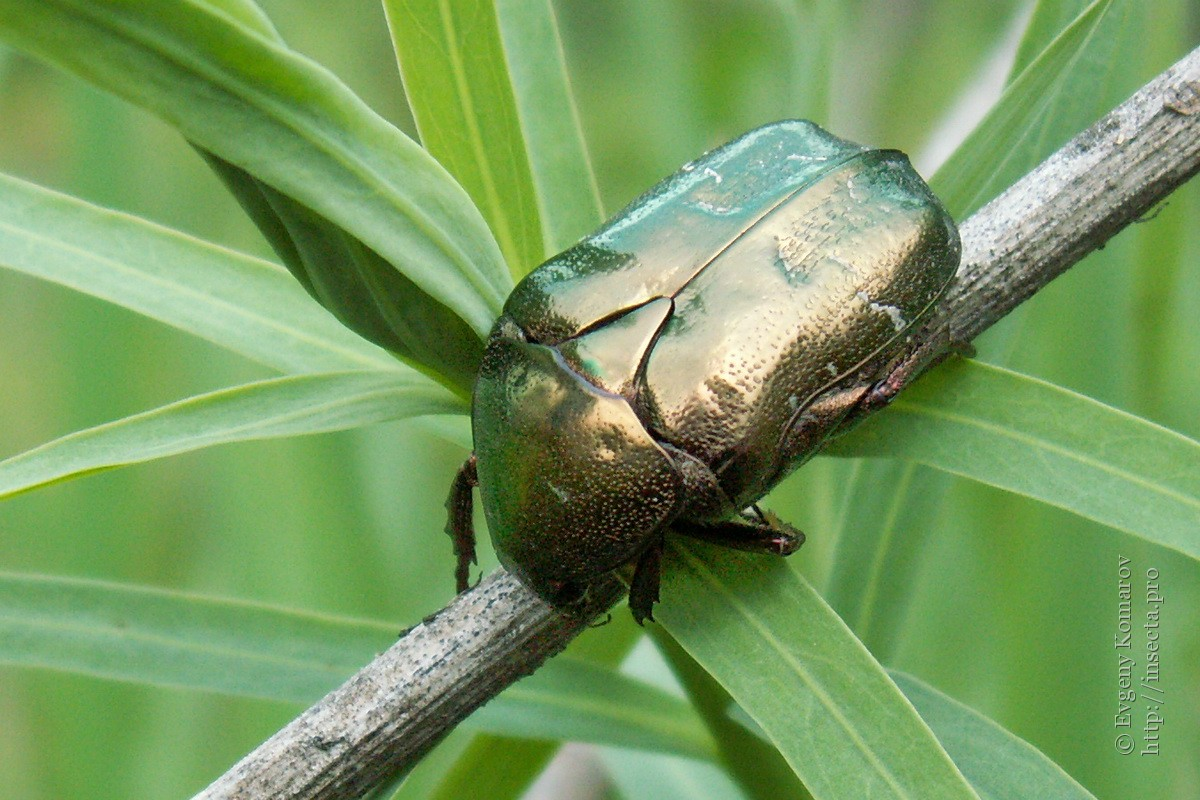Protaetia_fieberi: (442, 115, 964, 633)
